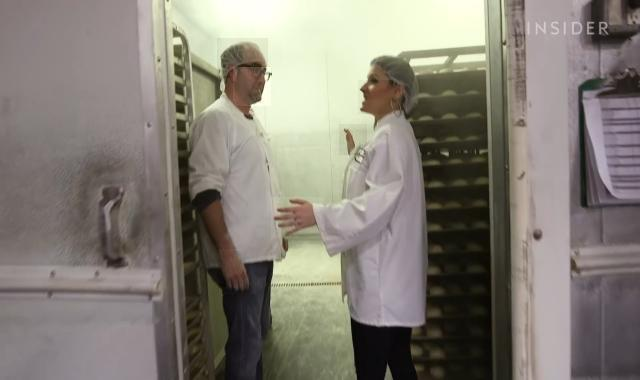gloves: (371, 50, 418, 111), (217, 38, 268, 78)
no_apron: (271, 197, 324, 238), (220, 249, 257, 294), (340, 124, 368, 155)
no_hairnet: (234, 67, 272, 106), (358, 80, 397, 114)
